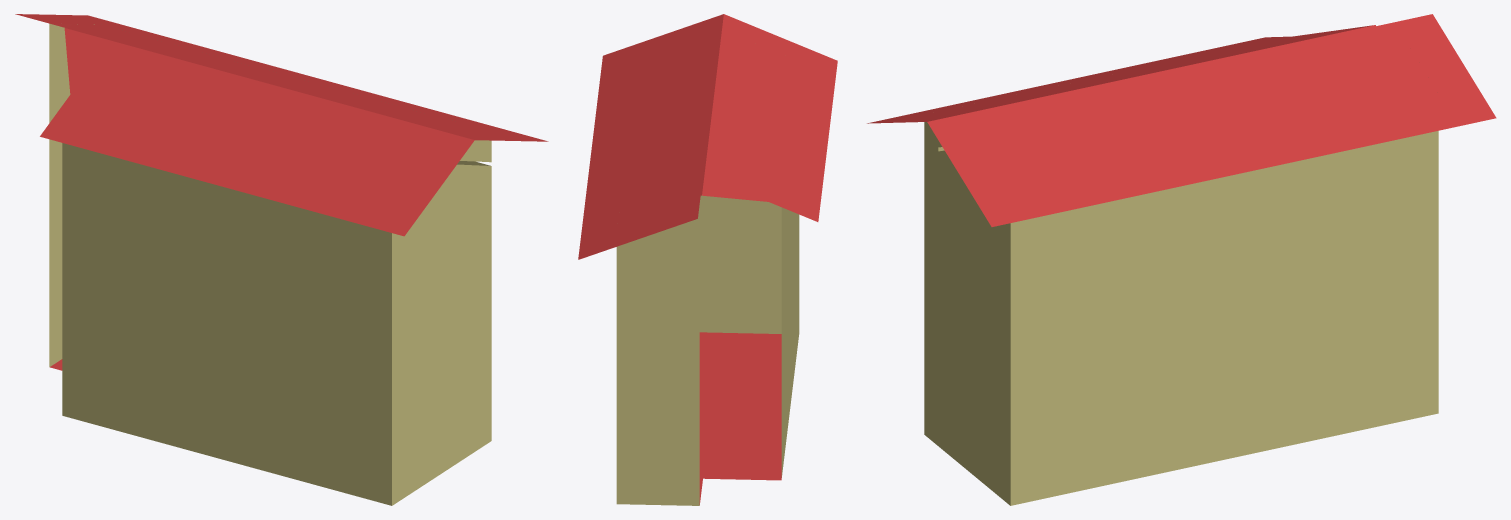
3 views of the same model, side by side, from view 1: azimuth 30°, elevation 25°; view 2: azimuth 150°, elevation 25°; view 3: azimuth 270°, elevation 25° (orthographic). The views are drawn at different scales.
Size of the model in its own units: 10.41 by 14.6 by 9.08.
